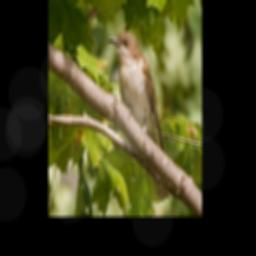Cuckoo: (107, 27, 170, 204)
